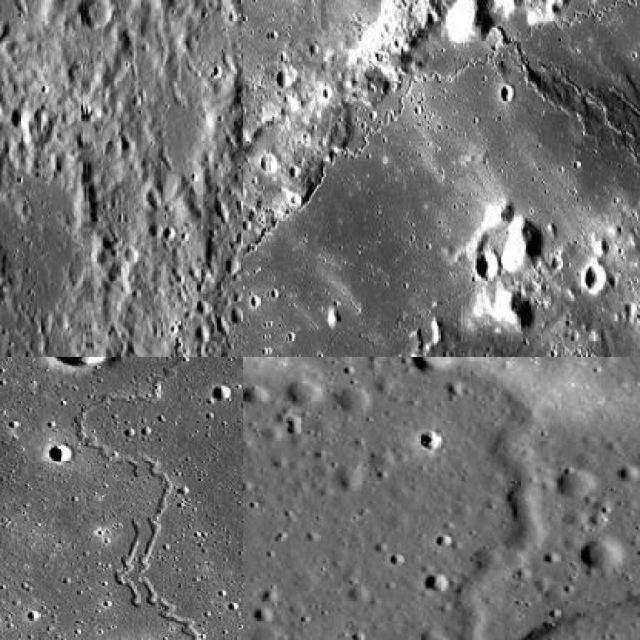rille: (243, 0, 639, 286), (452, 402, 546, 638), (96, 457, 216, 638), (74, 357, 201, 478), (112, 518, 142, 610)
